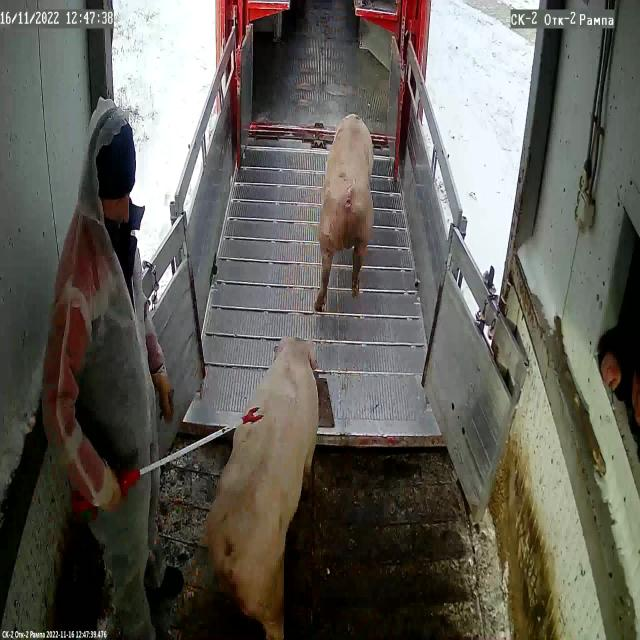pig: (201, 338, 319, 640), (314, 115, 374, 312)
